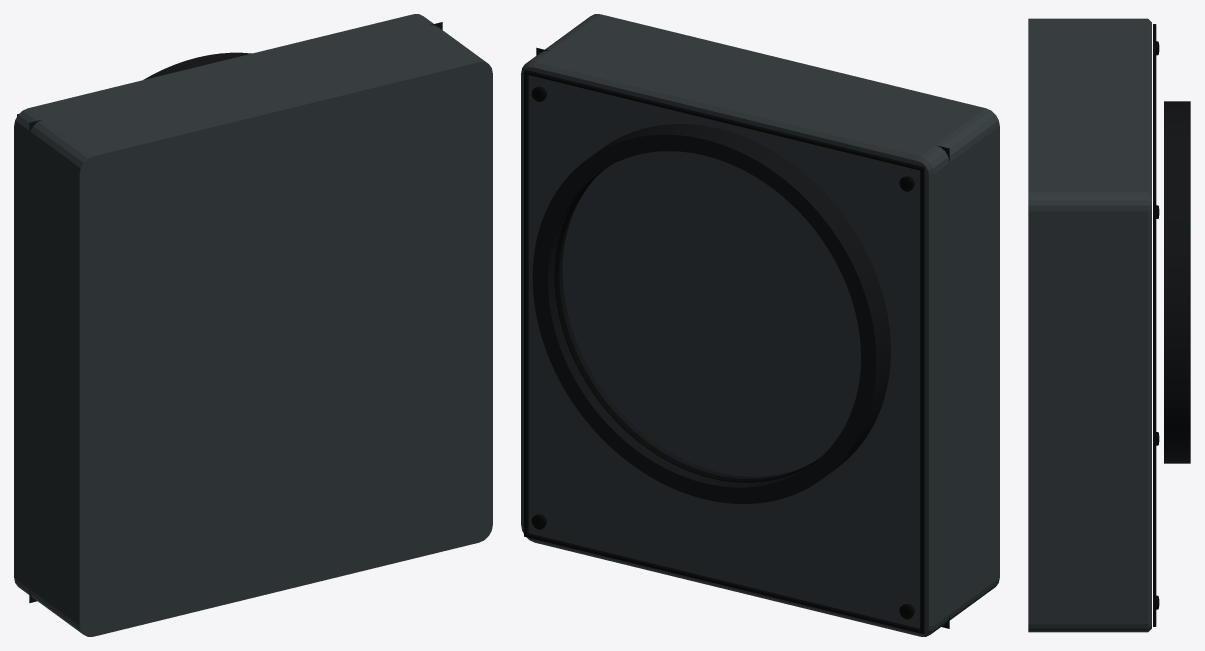
File: MFDStudio.obj
The picture shows the model from 3 angles, left to right: view 1: azimuth 30°, elevation 25°; view 2: azimuth 150°, elevation 25°; view 3: azimuth 270°, elevation 25°; orthographic projection. The views are drawn at different scales.
Parts seen in each view (by area): view 1: MFDStudioBody; view 2: MFDStudioBody, MFDStudioScrews; view 3: MFDStudioBody.
Boxes of the visible parts, x1,y1,x2,y2 form: MFDStudioBody: [14, 14, 492, 636]; MFDStudioBody: [521, 14, 999, 636]; MFDStudioScrews: [531, 86, 914, 619]; MFDStudioBody: [1028, 18, 1190, 632].
Size of the model in its own units: 0.18 by 0.2 by 0.067.
Materials: 9 (1 with a texture image).
